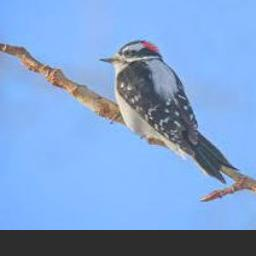Woodpecker: (99, 40, 238, 183)
